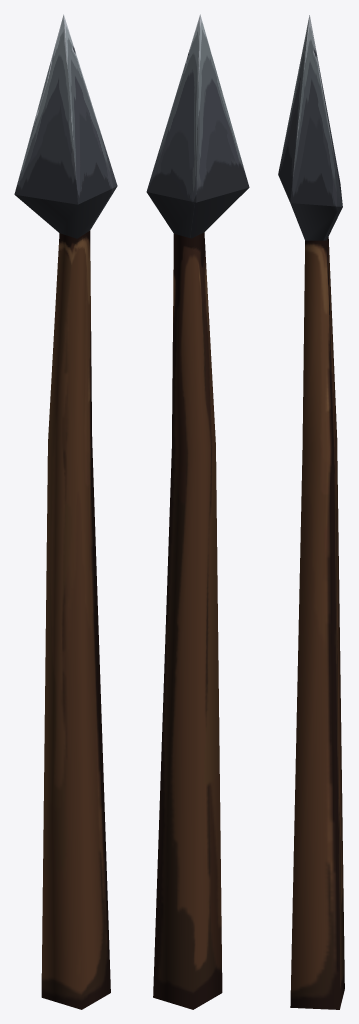
Rendered from SM_PROP_trap_arrow_dungeon_03.fbx.
The picture shows the model from 3 angles, left to right: view 1: azimuth 30°, elevation 25°; view 2: azimuth 210°, elevation 25°; view 3: azimuth 330°, elevation 25°; orthographic projection.
Visible parts, largest first — view 1: SM_PROP_trap_arrow_dungeon_03; view 2: SM_PROP_trap_arrow_dungeon_03; view 3: SM_PROP_trap_arrow_dungeon_03.
Boxes of the visible parts, x1,y1,x2,y2 form: SM_PROP_trap_arrow_dungeon_03: (14,14,117,1009); SM_PROP_trap_arrow_dungeon_03: (146,14,249,1009); SM_PROP_trap_arrow_dungeon_03: (278,15,344,1009).
Bounding box in the file's own units: 12.53 × 140 × 8.47.
